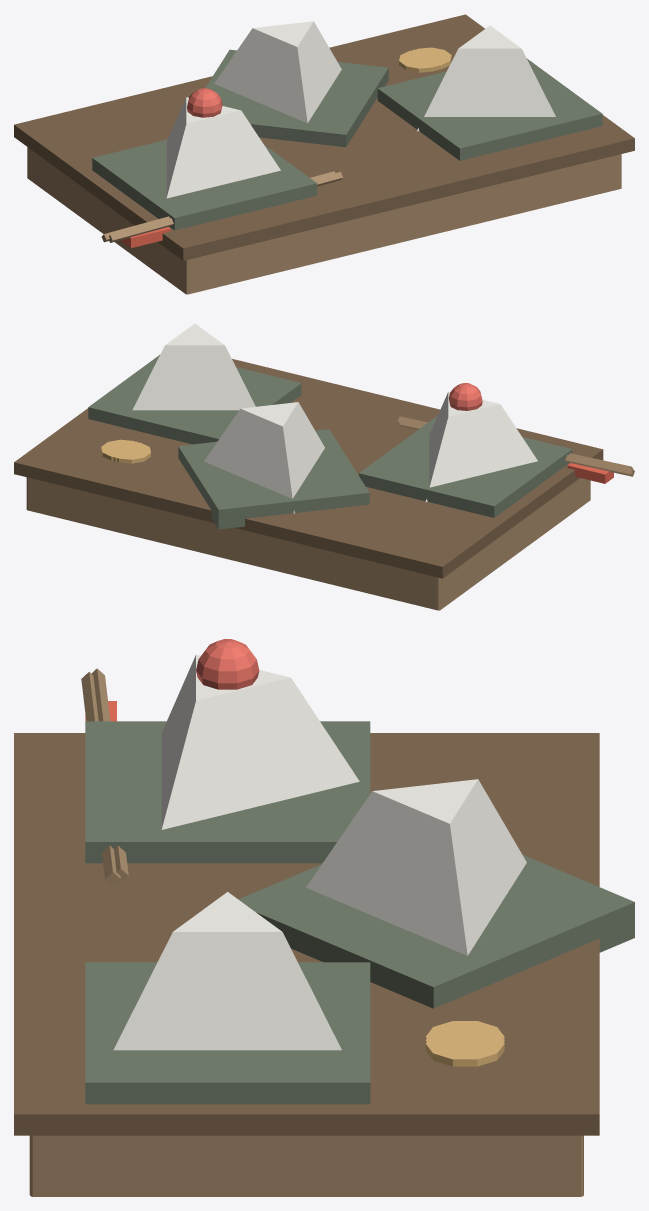
Rendered from onigiri_set.glb.
3 views of the same model, one above another, from view 1: azimuth 30°, elevation 25°; view 2: azimuth 150°, elevation 25°; view 3: azimuth 270°, elevation 25° (orthographic). The views are drawn at different scales.
Parts seen in each view (by area): view 1: onigiri_set; view 2: onigiri_set; view 3: onigiri_set.
Part boxes in pixels (x1,y1,x2,y2): onigiri_set: [14, 14, 634, 294]; onigiri_set: [14, 323, 634, 610]; onigiri_set: [14, 639, 634, 1196].
Bounding box in the file's own units: 0.6401 × 0.175 × 0.3923.
